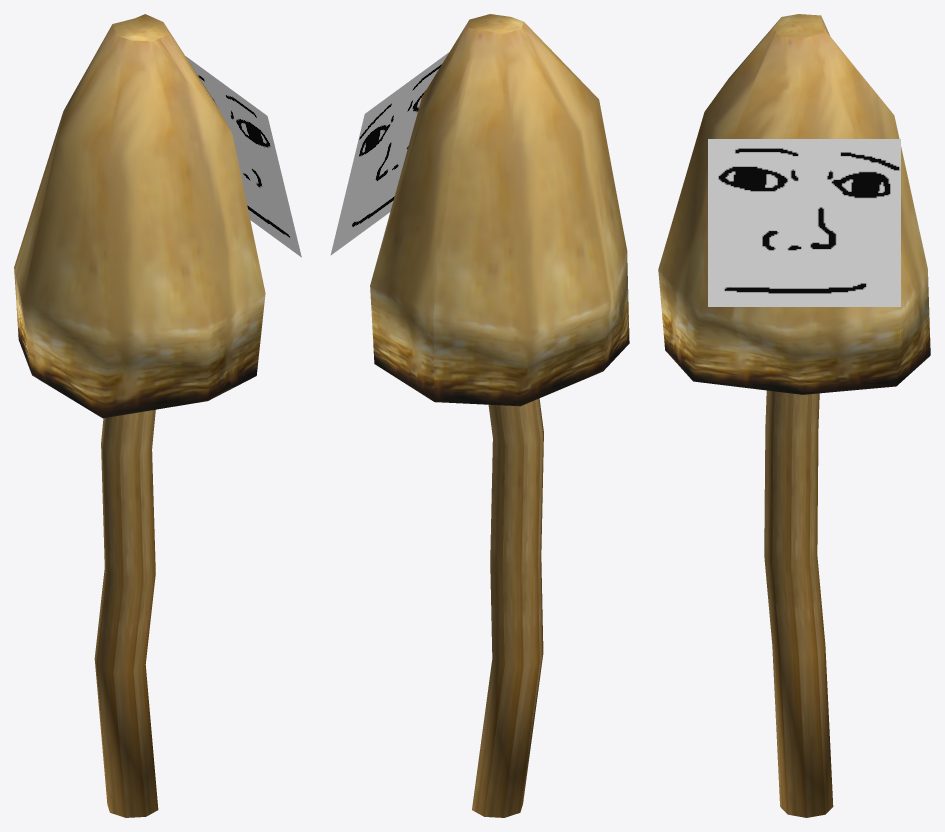
The model's file is mushroom.fbx.
The picture shows the model from 3 angles, left to right: view 1: azimuth 30°, elevation 25°; view 2: azimuth 150°, elevation 25°; view 3: azimuth 270°, elevation 25°; orthographic projection.
Parts seen in each view (by area): view 1: mushroom, face; view 2: mushroom, face; view 3: mushroom, face.
Boxes of the visible parts, x1,y1,x2,y2 form: mushroom: (14, 14, 265, 817); face: (185, 56, 301, 257); mushroom: (370, 14, 629, 817); face: (330, 52, 448, 255); mushroom: (658, 14, 930, 817); face: (708, 139, 900, 306).
Bounding box in the file's own units: 2.05 × 6.61 × 2.08.
2 materials, 2 textured.
